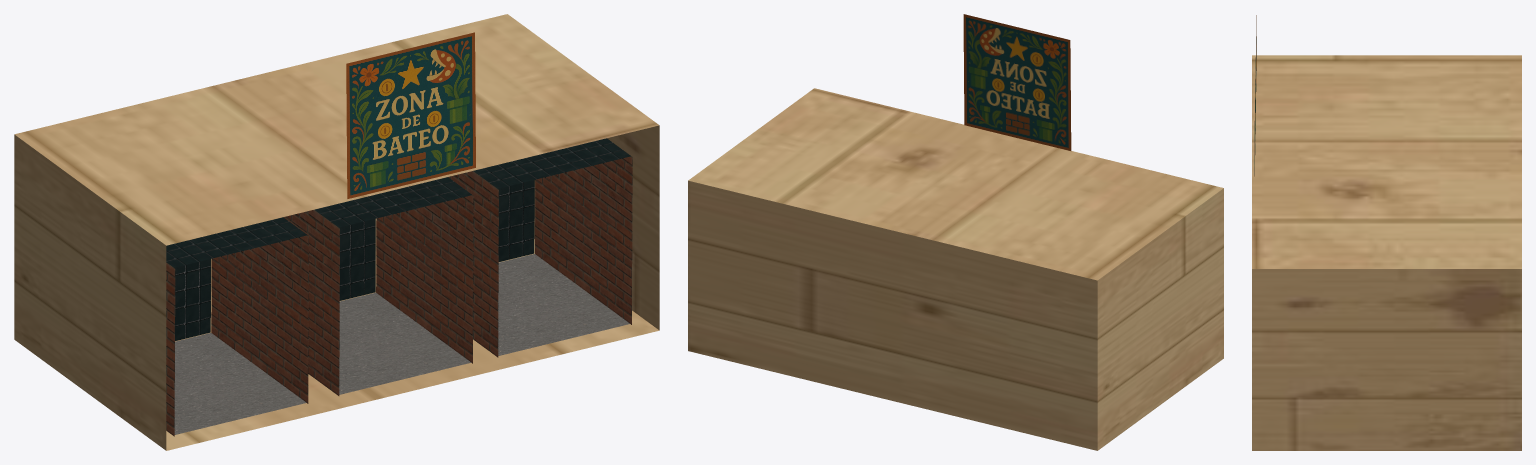
The model's file is zona_bateo.obj.
3 renders of one model, left to right at view 1: azimuth 30°, elevation 25°; view 2: azimuth 150°, elevation 25°; view 3: azimuth 270°, elevation 25°, orthographic. The views are drawn at different scales.
Parts seen in each view (by area): view 1: Cube.013, Plane.006, Plane.008, Plane.013, Plane.018, Plane.015, Plane.020, Plane.010, Plane.014, Plane.019, Plane.017, Plane.012 (+5 smaller); view 2: Cube.013, Plane.006; view 3: Cube.013.
Boxes of the visible parts, x1,y1,x2,y2 form: Cube.013: (14,14,659,450); Plane.006: (346,32,475,198); Plane.008: (211,218,308,403); Plane.013: (376,177,473,363); Plane.018: (535,138,632,324); Plane.015: (339,292,470,394); Plane.020: (498,254,629,355); Plane.010: (174,333,306,434); Plane.014: (283,209,339,395); Plane.019: (448,171,498,357); Plane.017: (473,138,630,188); Plane.012: (315,177,471,227); Cube.013: (688,88,1223,450); Plane.006: (963,14,1071,150); Cube.013: (1252,55,1521,450).
Bounding box in the file's own units: 38.93 × 25.71 × 20.8.
17 materials, 17 textured.
